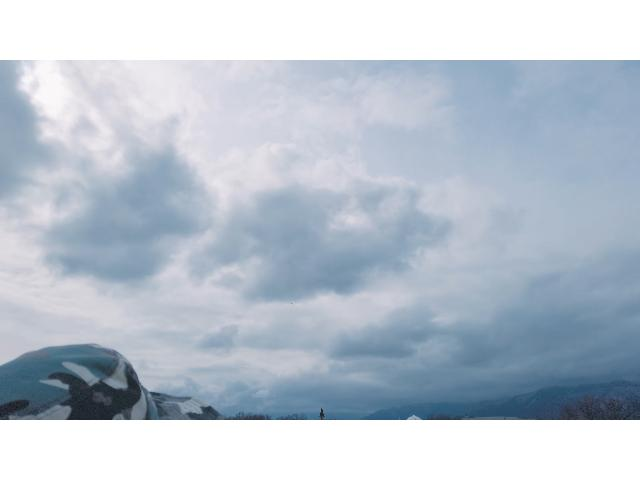Anti-Drone: (286, 299, 298, 307)
